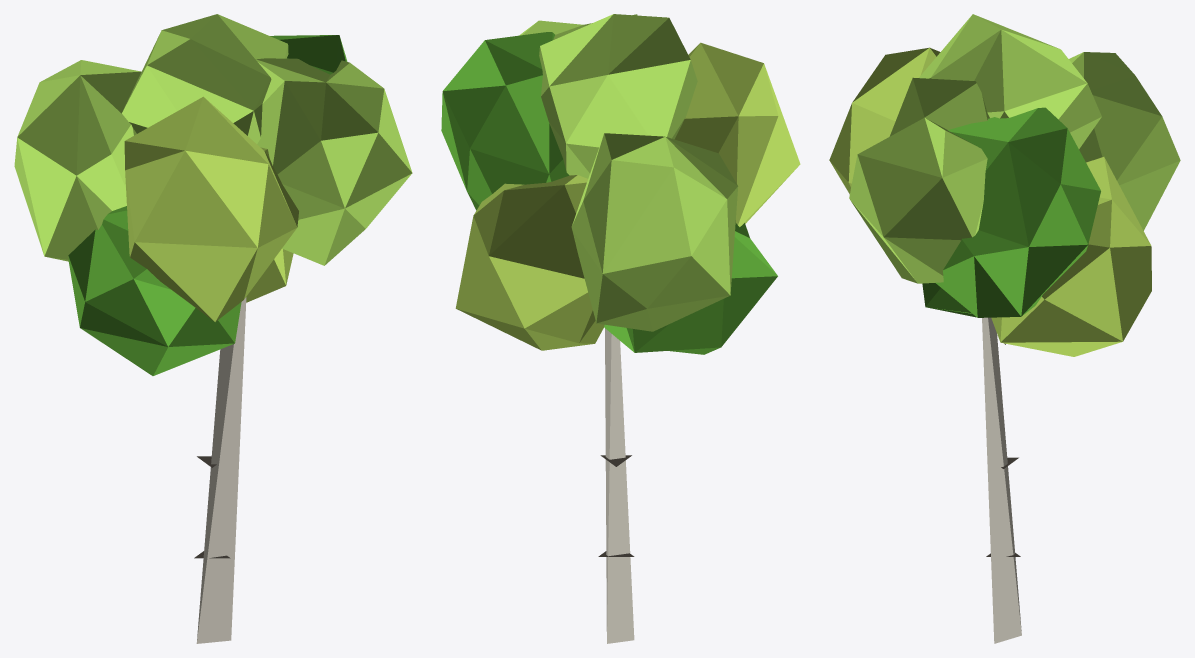
The model's file is tree_birch_1_lod1.glb.
3 views of the same model, side by side, from view 1: azimuth 30°, elevation 25°; view 2: azimuth 150°, elevation 25°; view 3: azimuth 270°, elevation 25° (orthographic). The views are drawn at different scales.
Visible parts, largest first — view 1: tree_birch_1_lod1; view 2: tree_birch_1_lod1; view 3: tree_birch_1_lod1.
Part boxes in pixels (x1,y1,x2,y2): tree_birch_1_lod1: [14, 14, 412, 643]; tree_birch_1_lod1: [441, 14, 800, 643]; tree_birch_1_lod1: [829, 14, 1180, 643].
Bounding box in the file's own units: 3.66 × 6.93 × 3.62.
